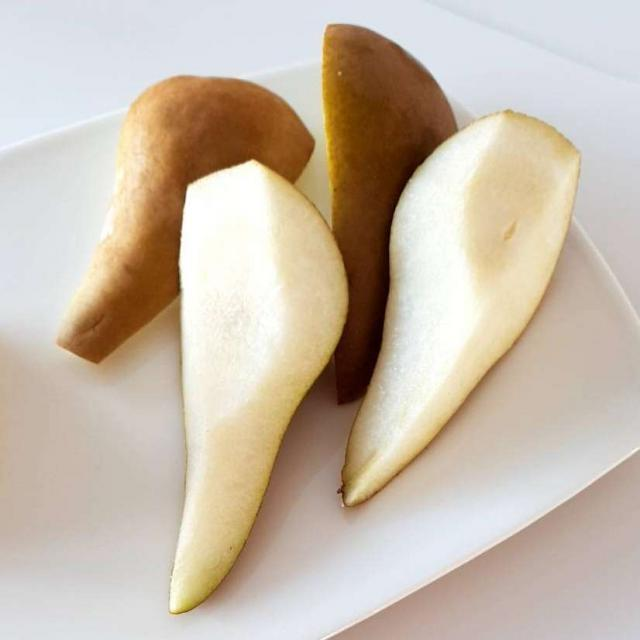pear: (59, 22, 585, 611)
